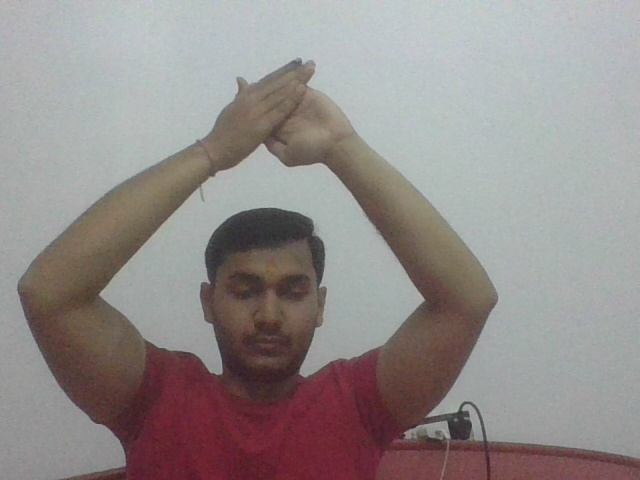H: (202, 58, 358, 174)
